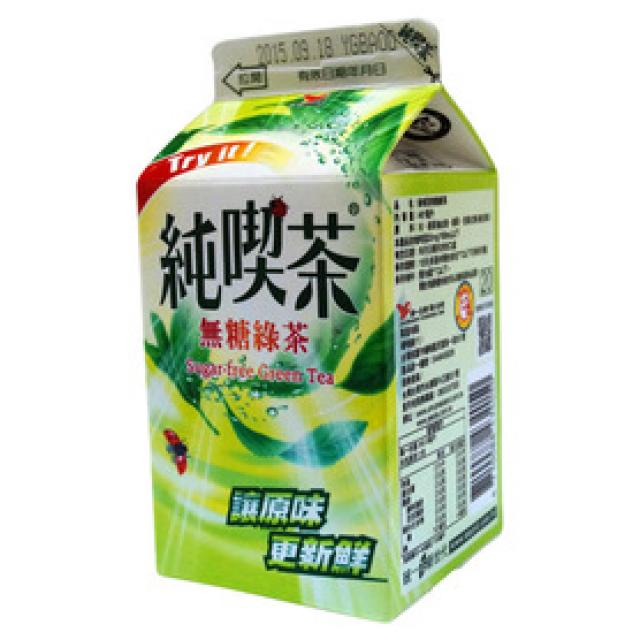non_white_jug: (132, 31, 516, 597)
